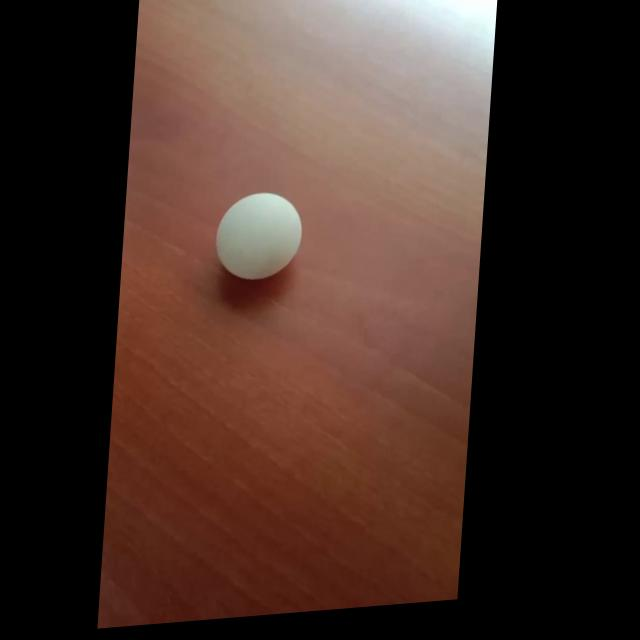white ball: (213, 188, 305, 283)
